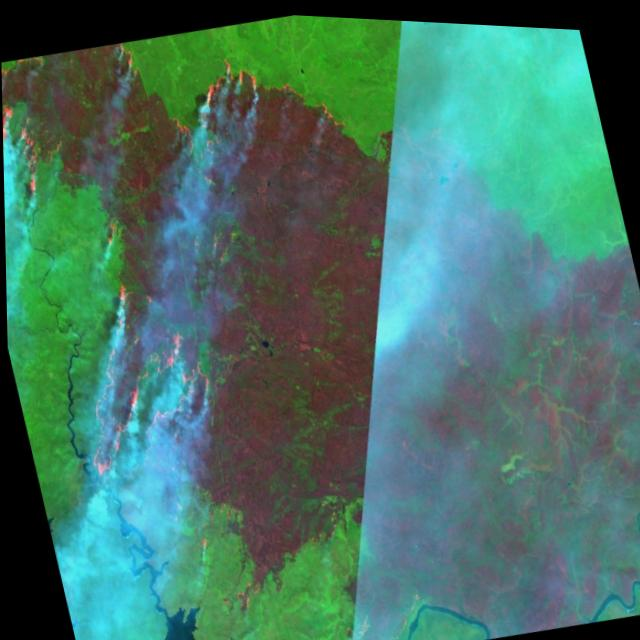fire: (21, 202, 246, 511), (0, 23, 200, 183), (189, 23, 356, 160)
